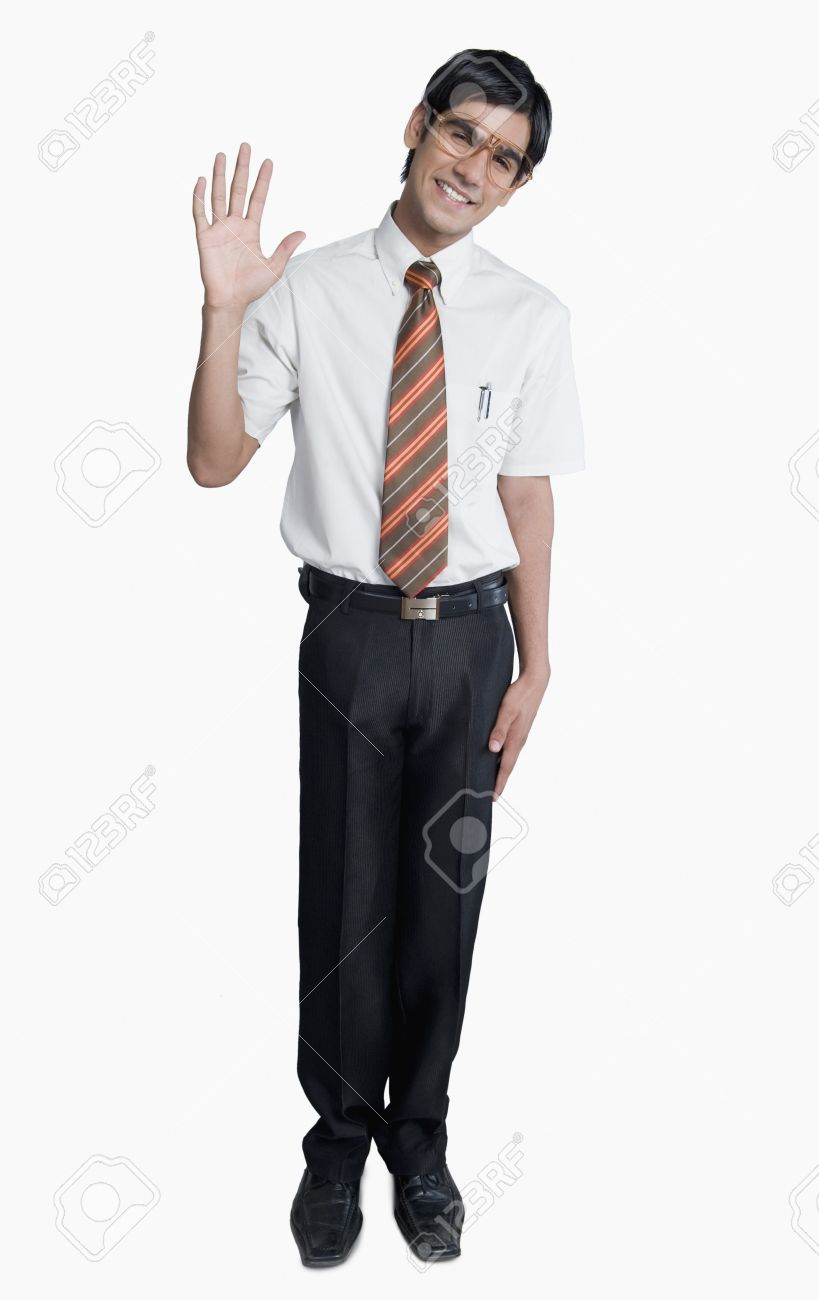open_hand: (168, 124, 319, 314)
